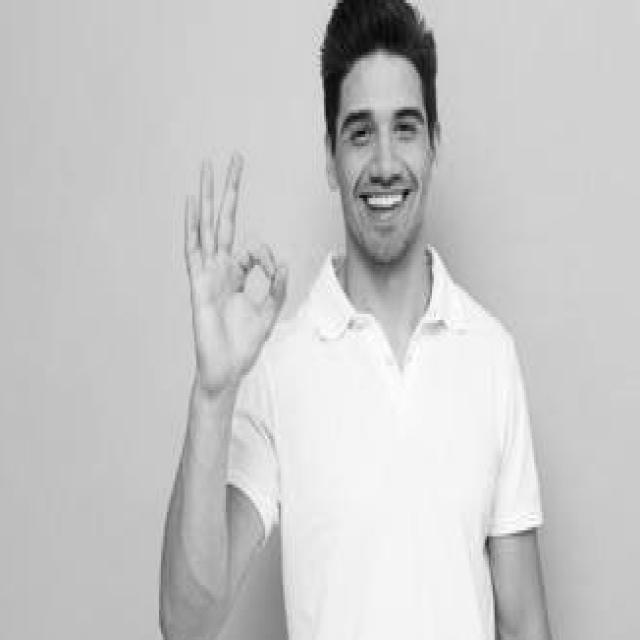perfect: (172, 138, 295, 413)
